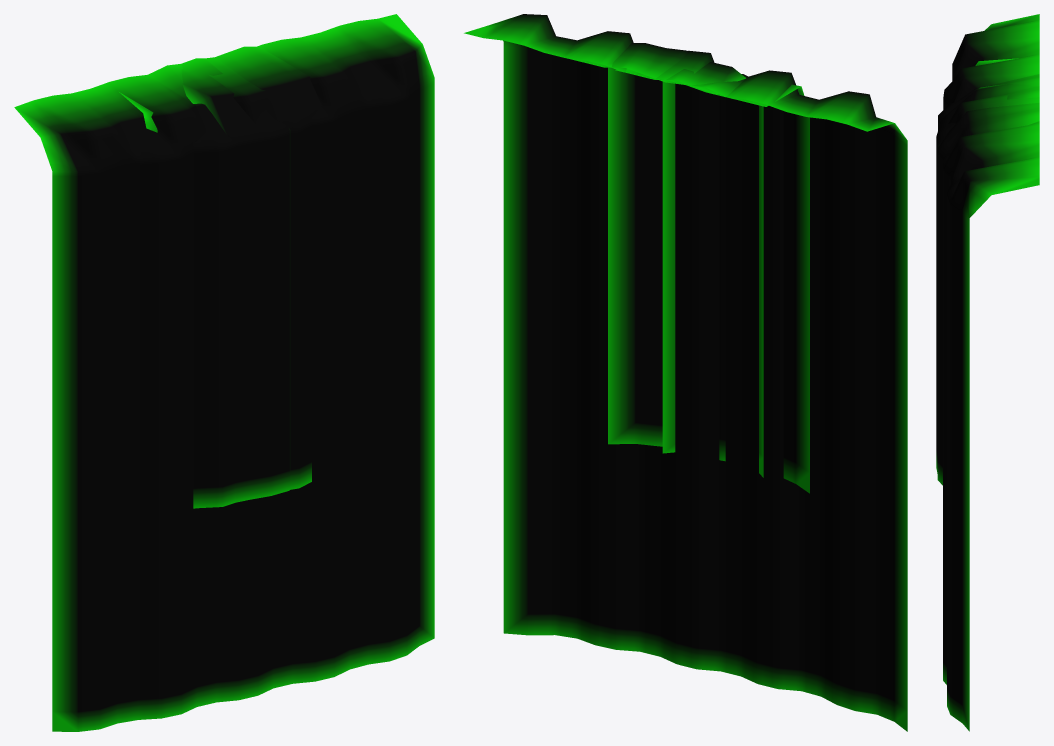
Rendered from Waterfall_01.fbx.
3 renders of one model, left to right at view 1: azimuth 30°, elevation 25°; view 2: azimuth 150°, elevation 25°; view 3: azimuth 270°, elevation 25°, orthographic. The views are drawn at different scales.
Visible parts, largest first — view 1: Waterfall_20x30, Waterfall_10x20, Waterfall_5x20; view 2: Waterfall_20x30, Waterfall_10x20, Waterfall_5x20; view 3: Waterfall_20x30, Waterfall_10x20, Waterfall_5x20.
Part boxes in pixels (box(x1,y1,x2,y2)): Waterfall_20x30: box(14, 14, 434, 731); Waterfall_10x20: box(119, 37, 321, 508); Waterfall_5x20: box(181, 58, 290, 502); Waterfall_20x30: box(464, 14, 907, 731); Waterfall_10x20: box(564, 43, 809, 493); Waterfall_5x20: box(615, 62, 763, 477); Waterfall_20x30: box(943, 14, 1039, 731); Waterfall_10x20: box(937, 58, 1039, 485); Waterfall_5x20: box(936, 83, 1039, 473).
Bounding box in the file's own units: 2000 × 3003 × 511.
